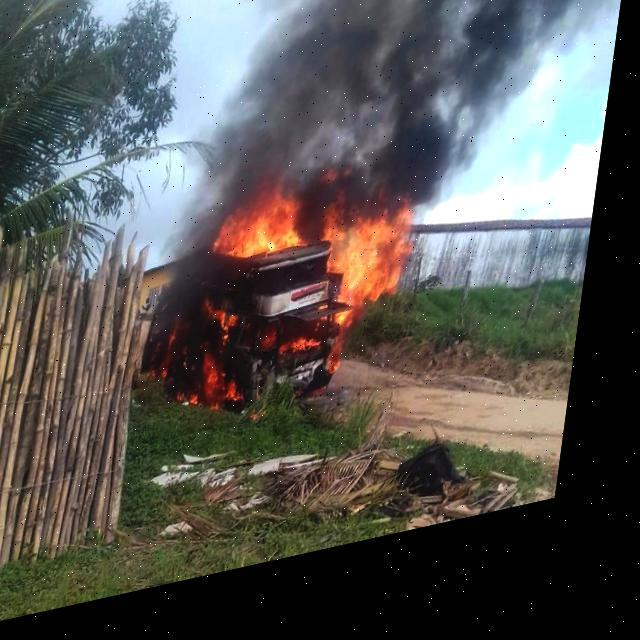Fire: (317, 205, 422, 352), (224, 188, 320, 276), (206, 352, 258, 428), (292, 348, 335, 374)
